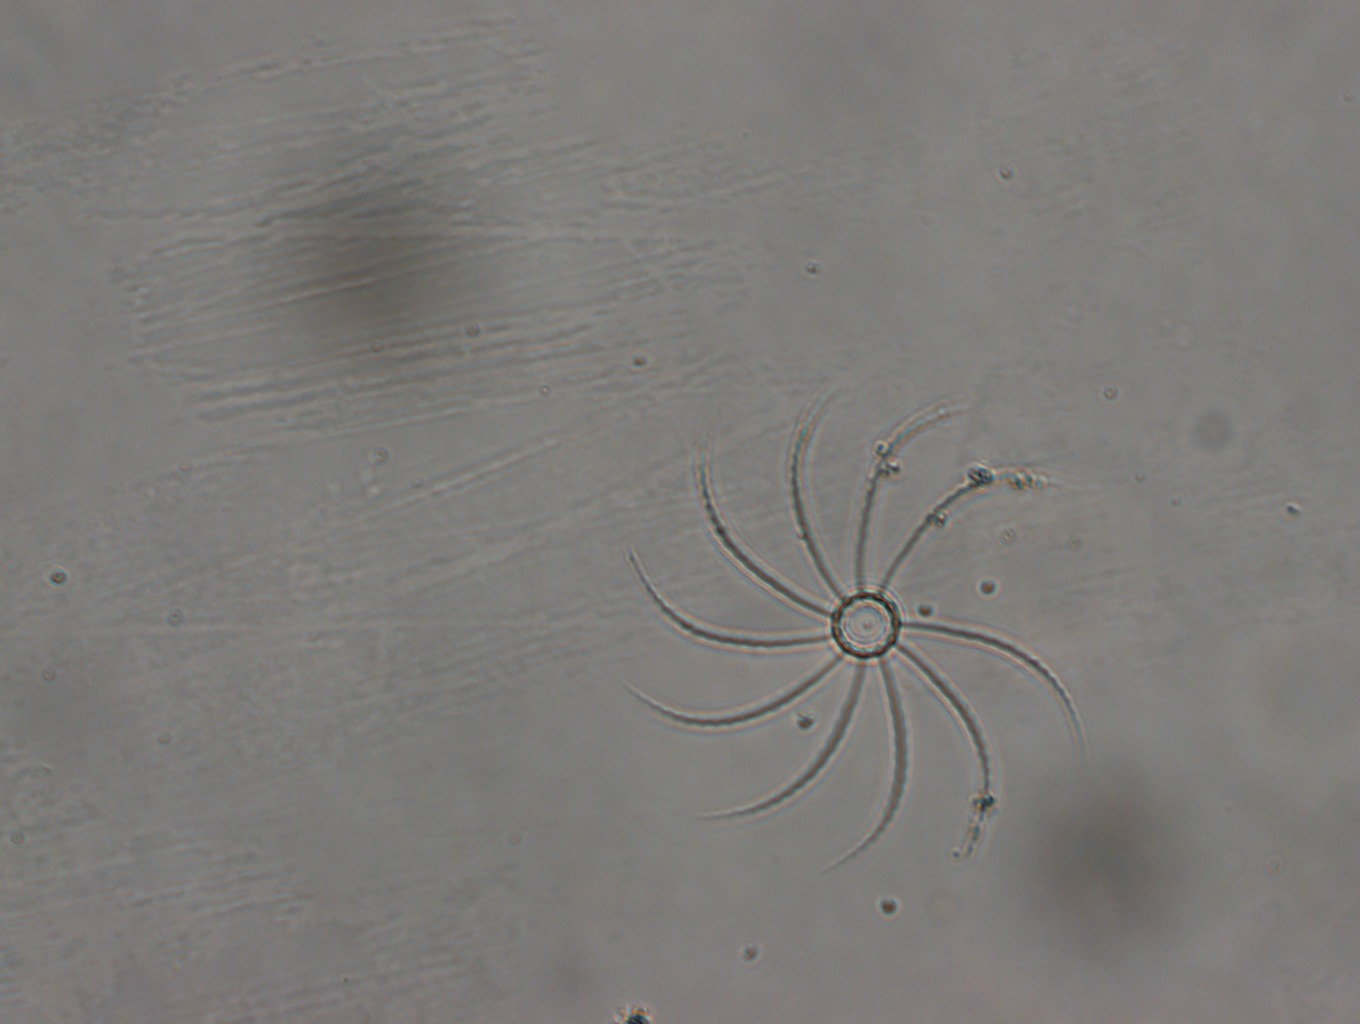bacteriastrum: (611, 383, 1097, 885)
